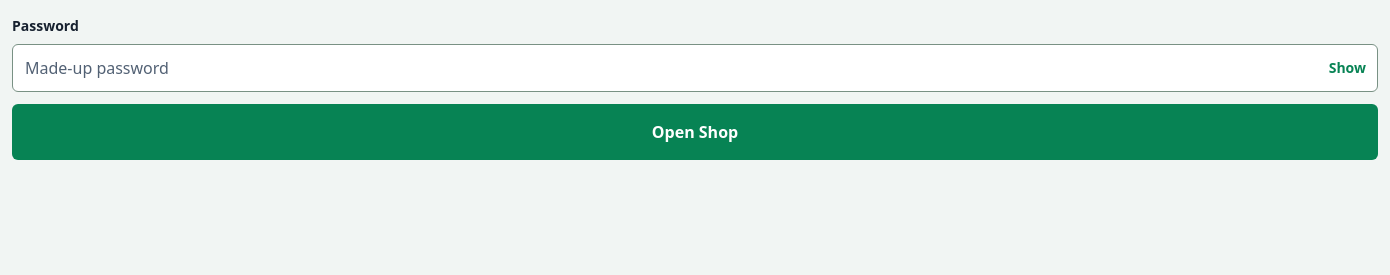
Test: password-only Login UI preview › shows and hides the same input without submitting and clears field errors when edited
Submit the form named "Login UI preview", box [12,16,1378,160]
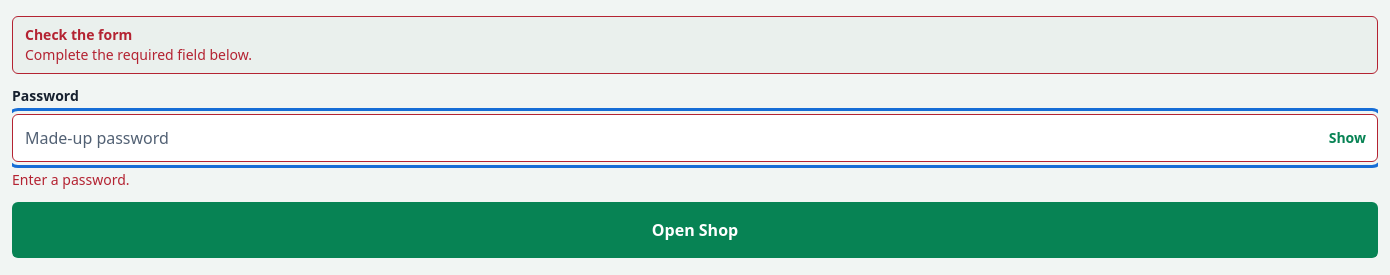
Type "made-up-preview" into the password field labelled "Password" at point(695, 138), box [12,114,1378,162]
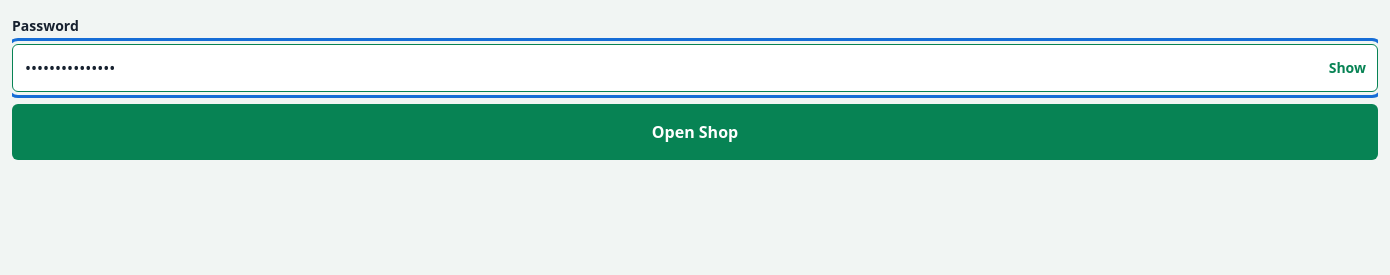
Click the button with aria-label "Show password" at point(1347, 68), box [1317,44,1378,92]
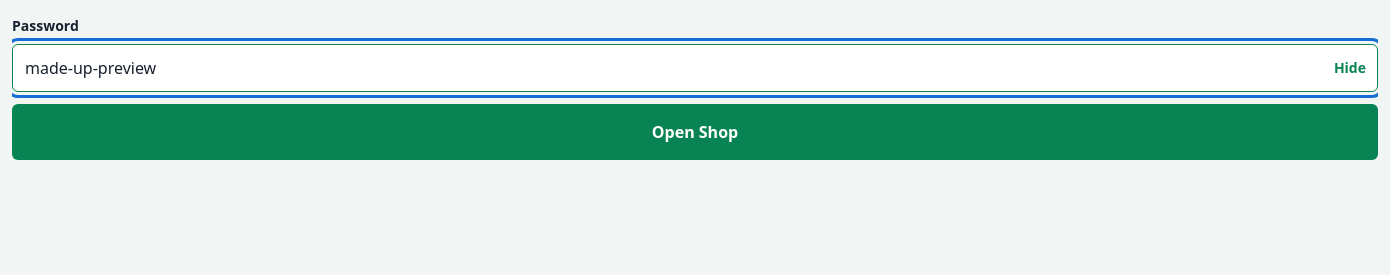
Expected: the field labelled "Password" shows its text, [12,44,1378,92]
Click the button with aria-label "Hide password" at point(1350, 68), box [1322,44,1378,92]
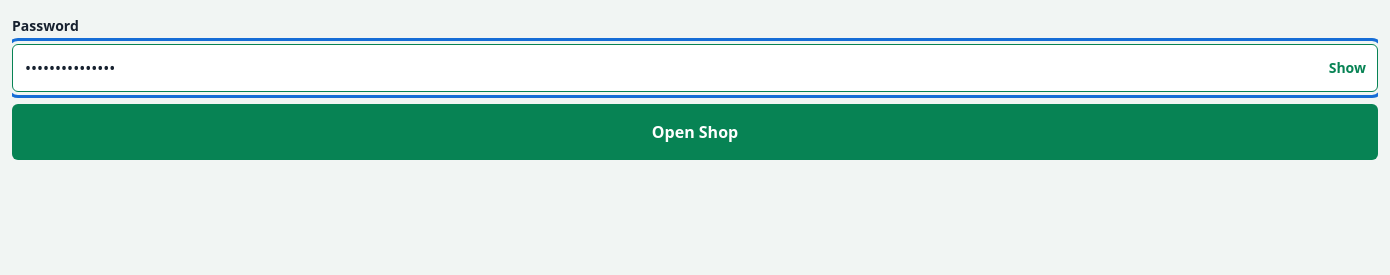
Expected: the password field labelled "Password" hides its text, [12,44,1378,92]
